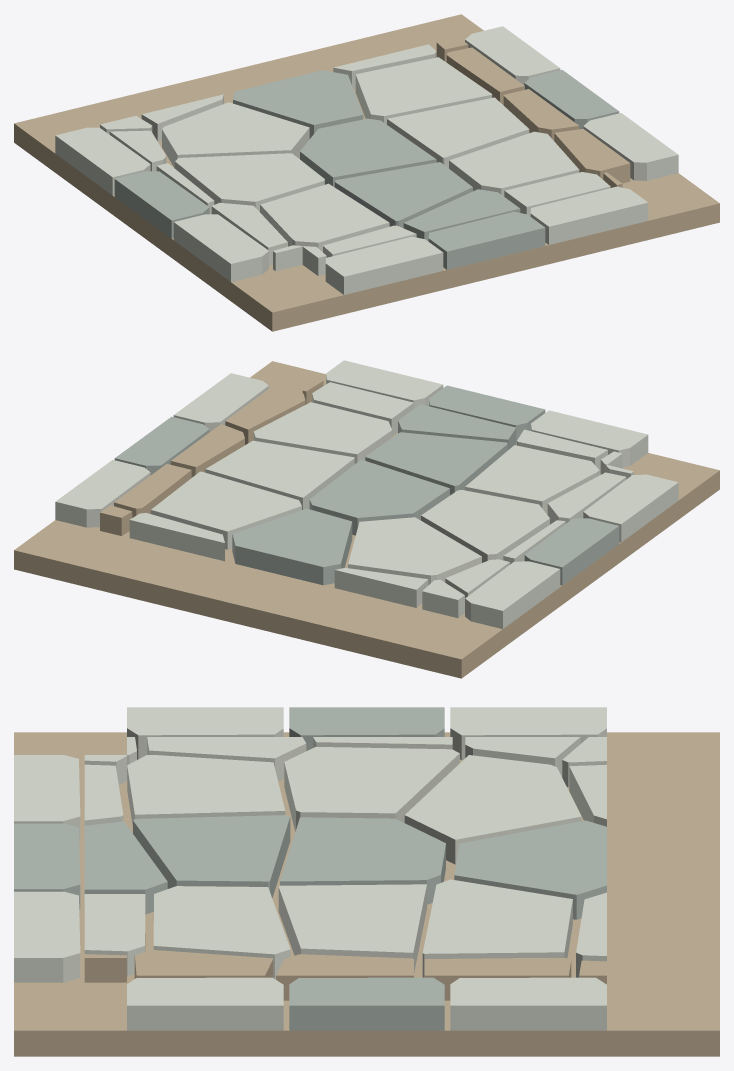
The model's file is world_road_junction.fbx.
The picture shows the model from 3 angles, top to bottom: view 1: azimuth 30°, elevation 25°; view 2: azimuth 150°, elevation 25°; view 3: azimuth 270°, elevation 25°; orthographic projection. The views are drawn at different scales.
Visible parts, largest first — view 1: world_road_junction_mesh; view 2: world_road_junction_mesh; view 3: world_road_junction_mesh.
Boxes of the visible parts, left/top/right/bottom form: world_road_junction_mesh: left=14, top=14, right=719, bottom=331; world_road_junction_mesh: left=14, top=360, right=719, bottom=678; world_road_junction_mesh: left=14, top=707, right=719, bottom=1056.
Bounding box in the file's own units: 1 × 0.08 × 1.
